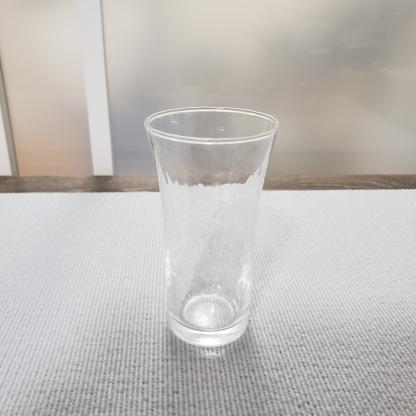glass: (136, 94, 304, 359)
